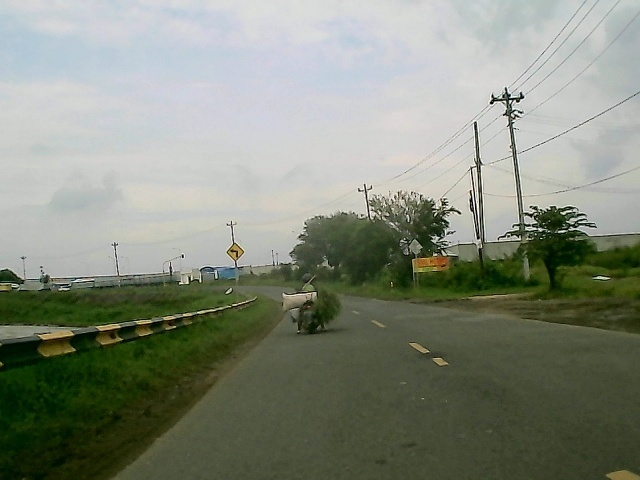Tikungan tajam ke kiri: (226, 240, 245, 262)
